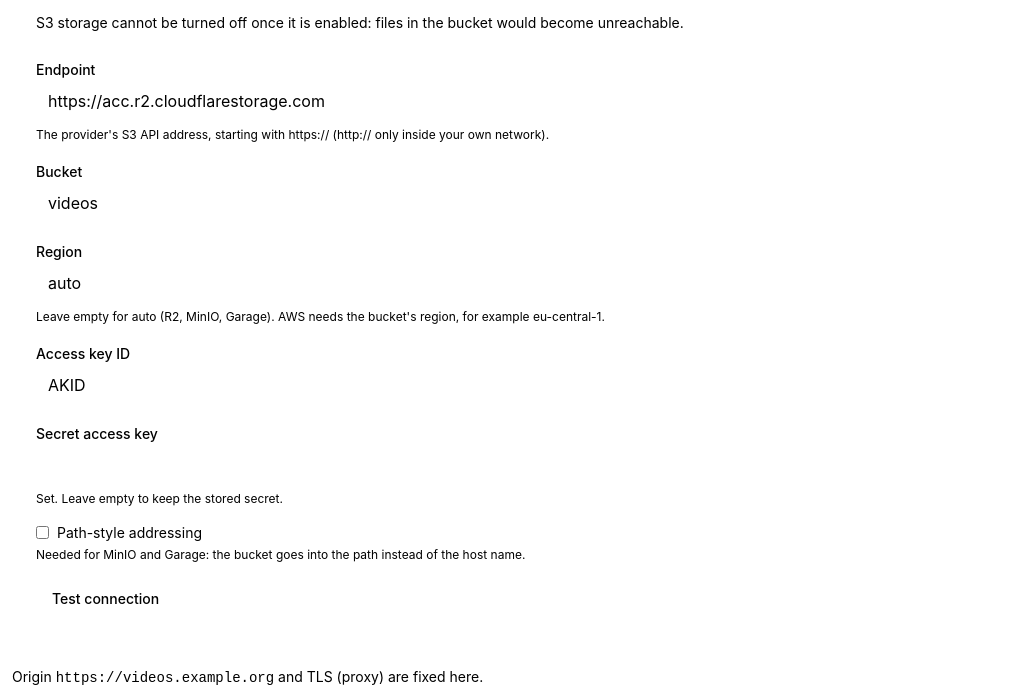
S3 storage › keeps the secret write-only: shown as set, never filled in, sent only when typed
(page scrolled)
Check: the password field labelled "Secret access key" is empty, box [36, 445, 1012, 485]
Check: the text "Set. Leave empty to keep the stored secret." is shown, box [36, 491, 283, 506]
What coordinates should you click on to do the following:
click the button "Test connection"
I would click on:
 (106, 599)
Its box is [36, 579, 175, 619].
(page scrolled)
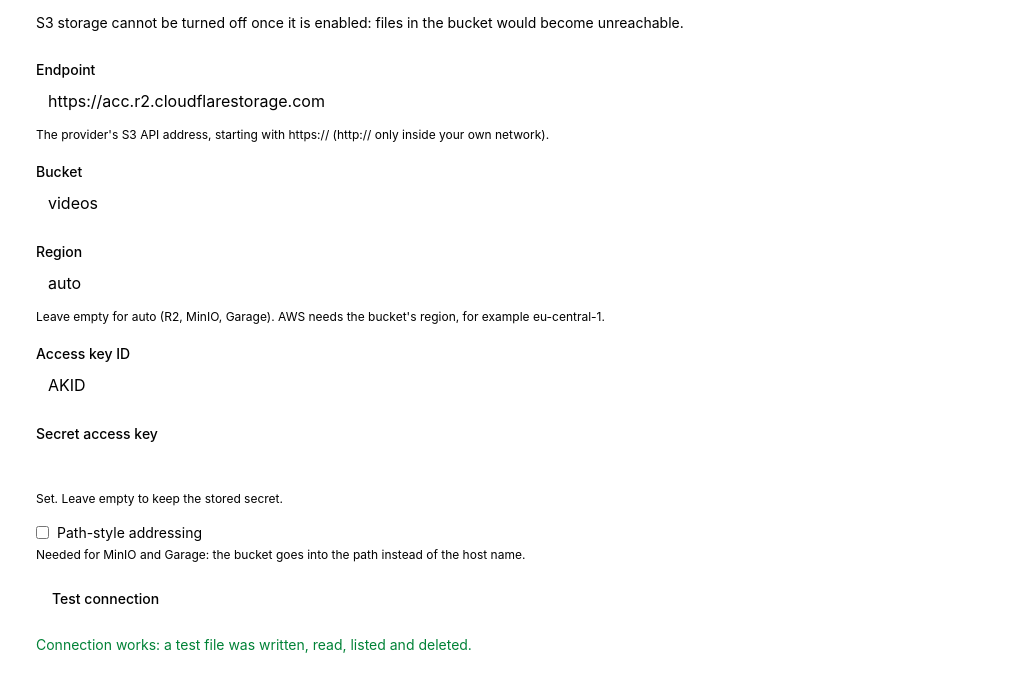
Check: the text "Connection works: a test file was written, read, listed and deleted." is shown, box [36, 636, 472, 653]
